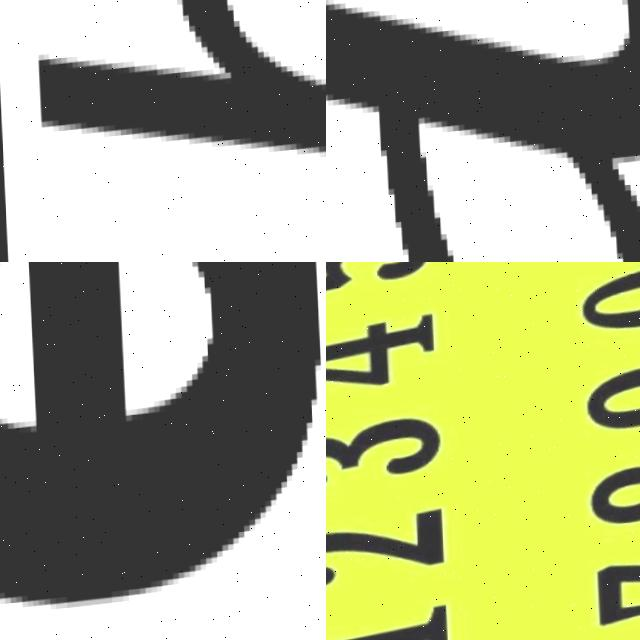0: (558, 262, 640, 355)
1: (326, 597, 475, 640)
2: (326, 501, 460, 617)
3: (326, 409, 446, 505)
4: (326, 304, 449, 415)
5: (326, 262, 441, 318)
7: (564, 533, 640, 640)
8: (562, 443, 640, 544)
9: (559, 342, 640, 451)
A: (326, 0, 640, 262)
